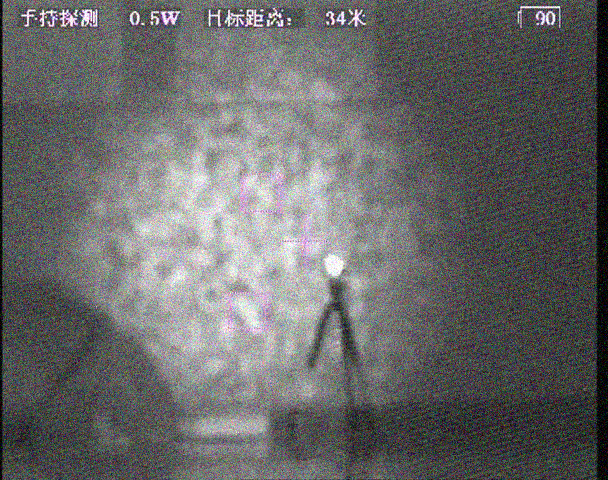my: (323, 253, 348, 278)
